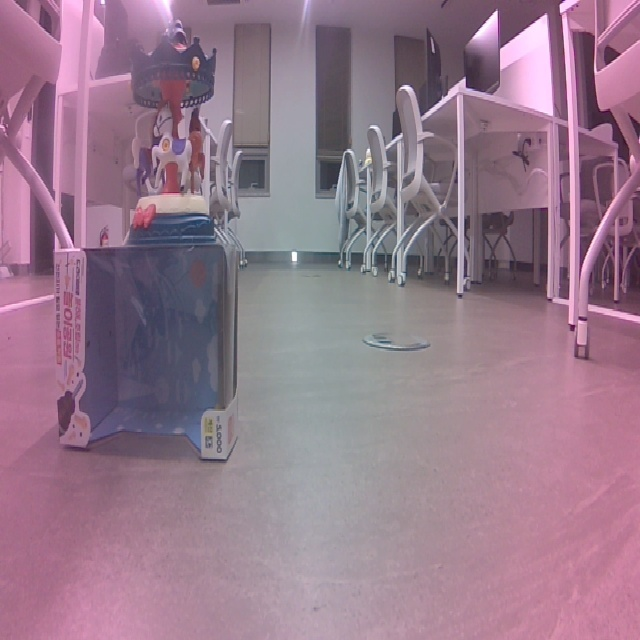목적지: (152, 17, 278, 233)
